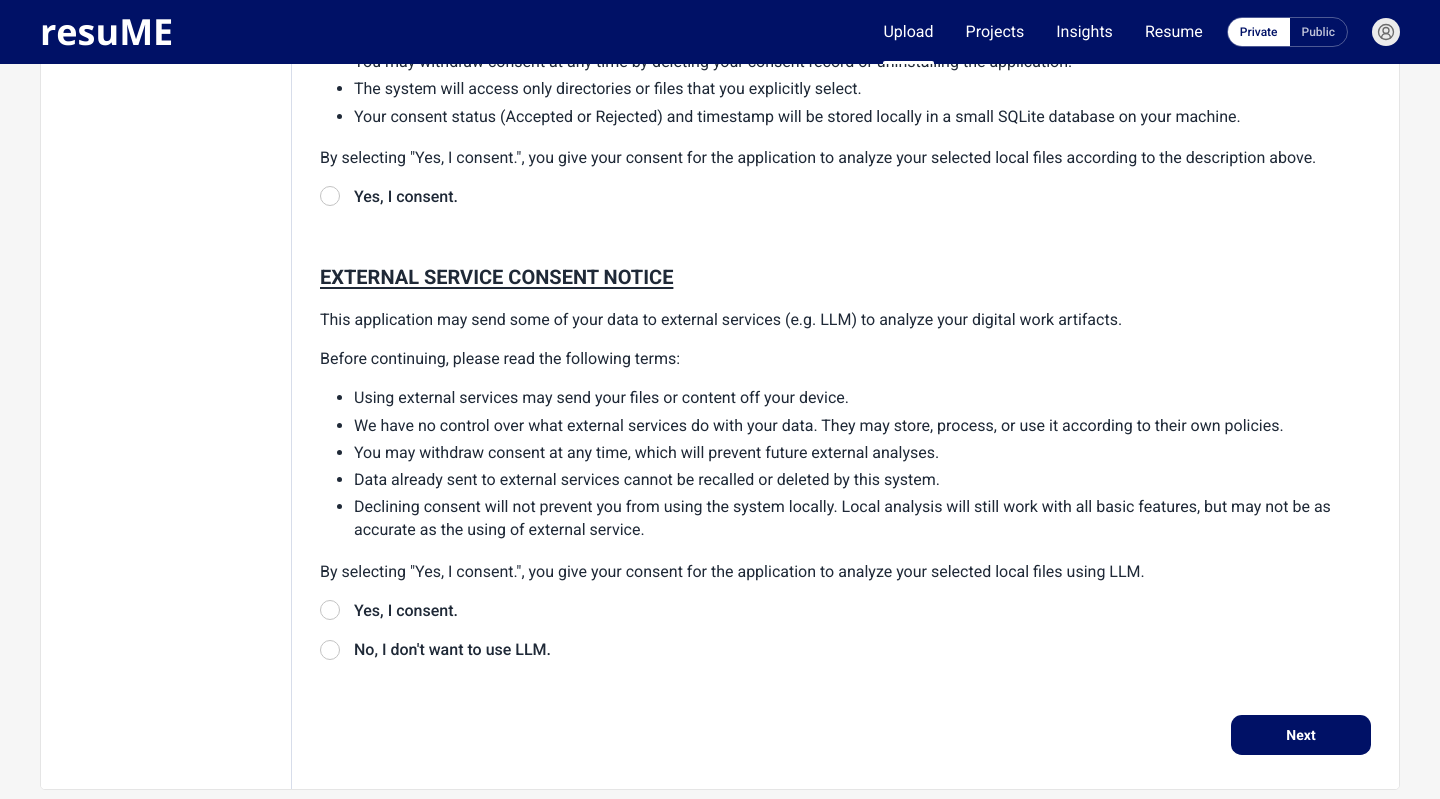
Test: upload wizard flow › shows validation when internal consent is not accepted
(page scrolled)
Click the radio button labelled "Yes, I consent." below "EXTERNAL SERVICE CONSENT NOTICE". click: (330, 610)
box: [320,600,340,620]
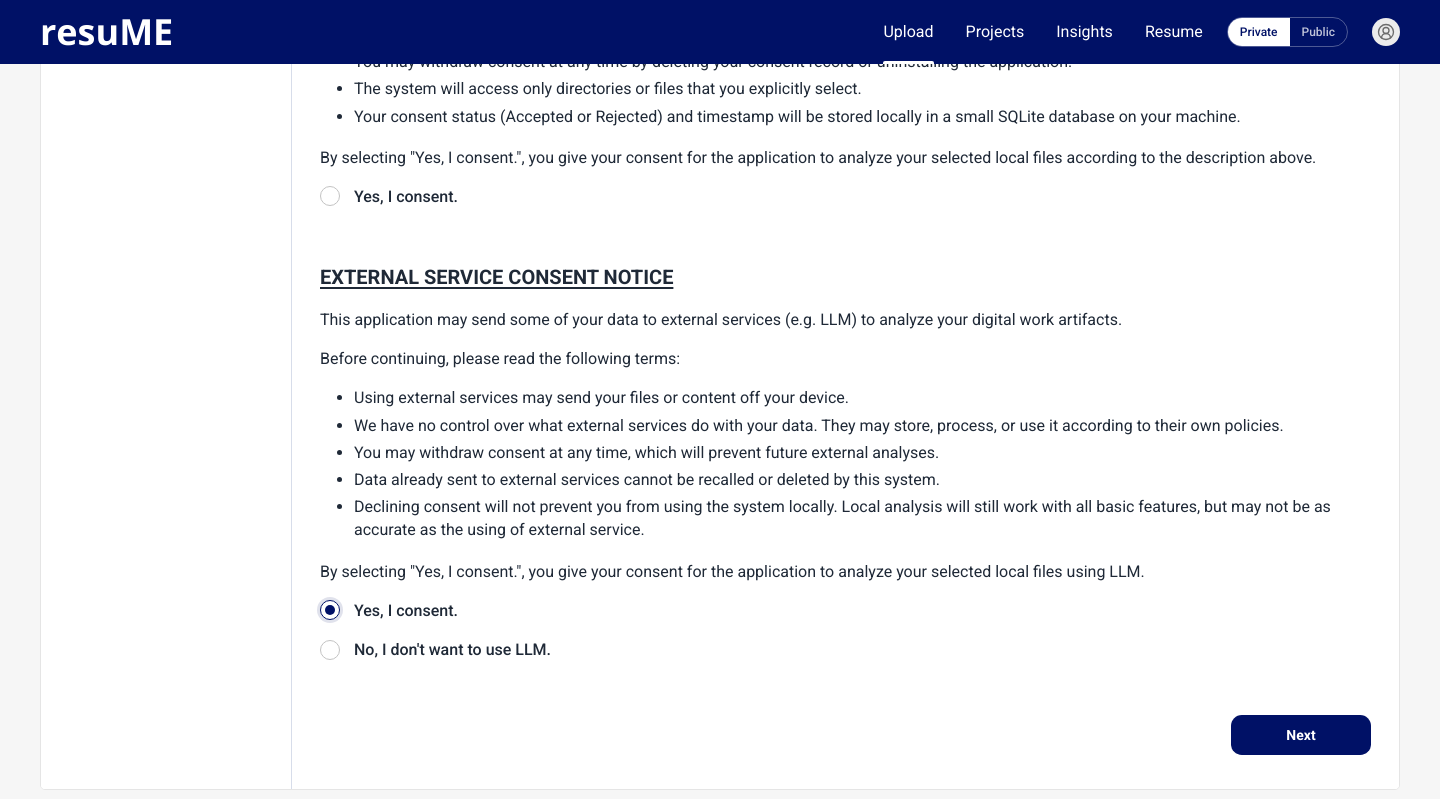
Click the button "Next". click: (1301, 735)
box: [1231,715,1371,755]
(page scrolled)
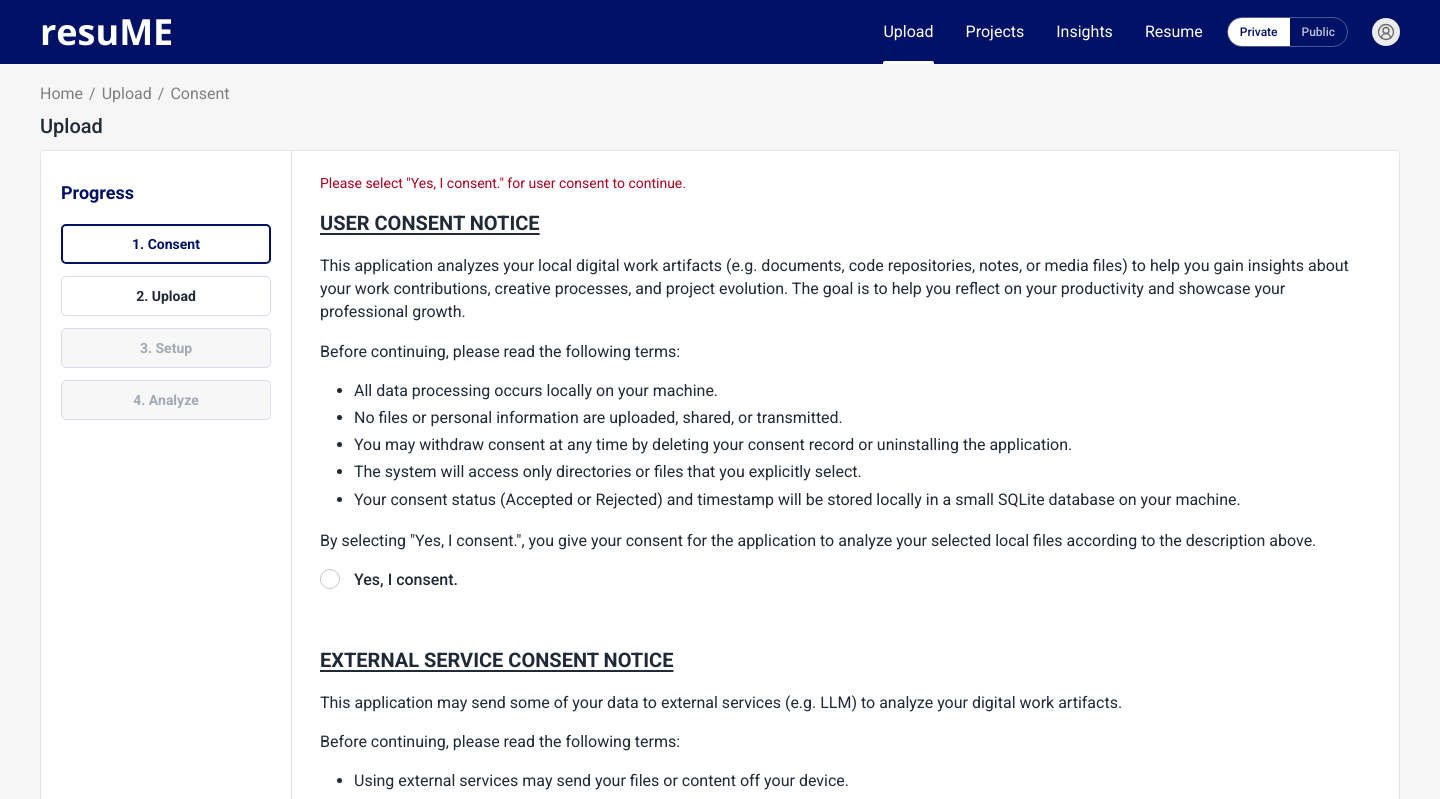
expect the text "Please select \"Yes, I consent.\" for user consent to continue." is shown: met, box [320,175,686,191]
